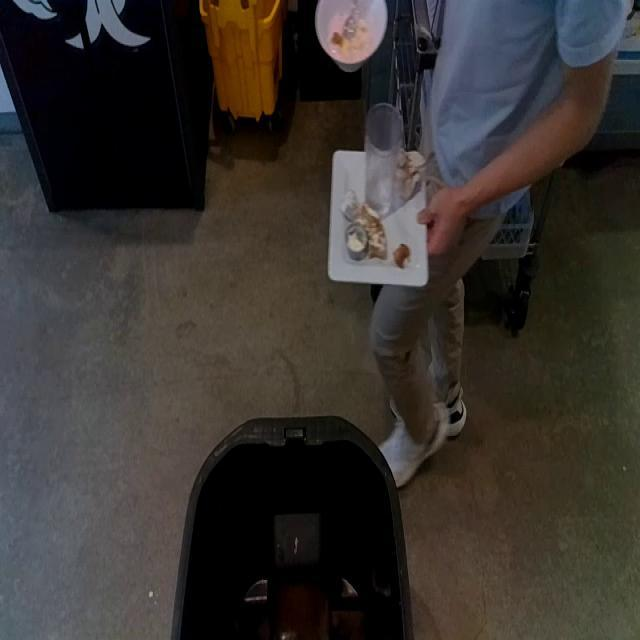Anorganik: (330, 130, 437, 292), (316, 0, 386, 73)
Organik: (347, 193, 417, 273), (326, 11, 376, 55)
